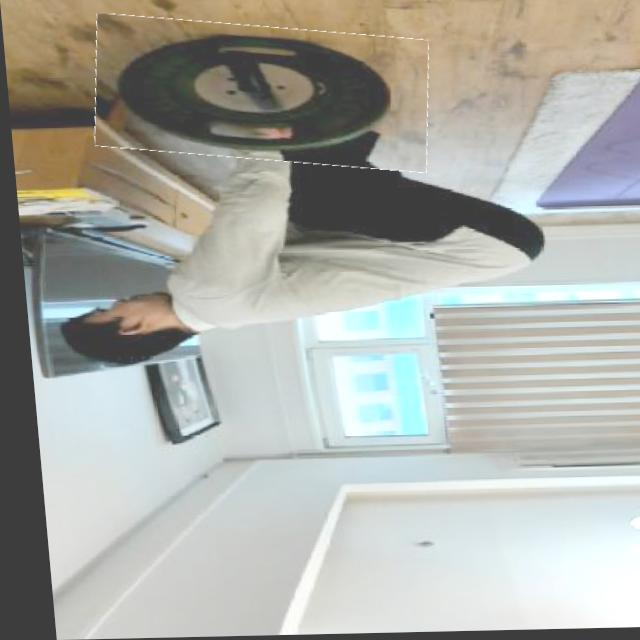barbell: (88, 18, 434, 173)
